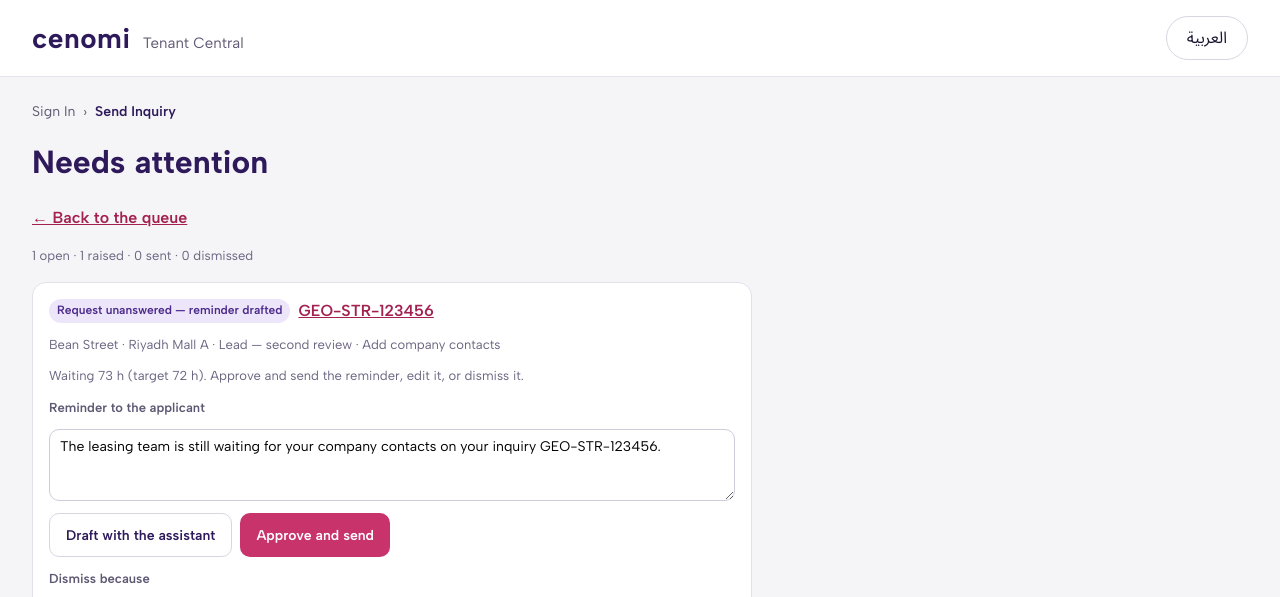
AttentionPage › sends the edited text and reports a hold for quiet hours
Replace the text in the text box labelled "Reminder to the applicant" with "Please add your contacts.". click: coordinates (392, 465)
box: left=49, top=429, right=735, bottom=501
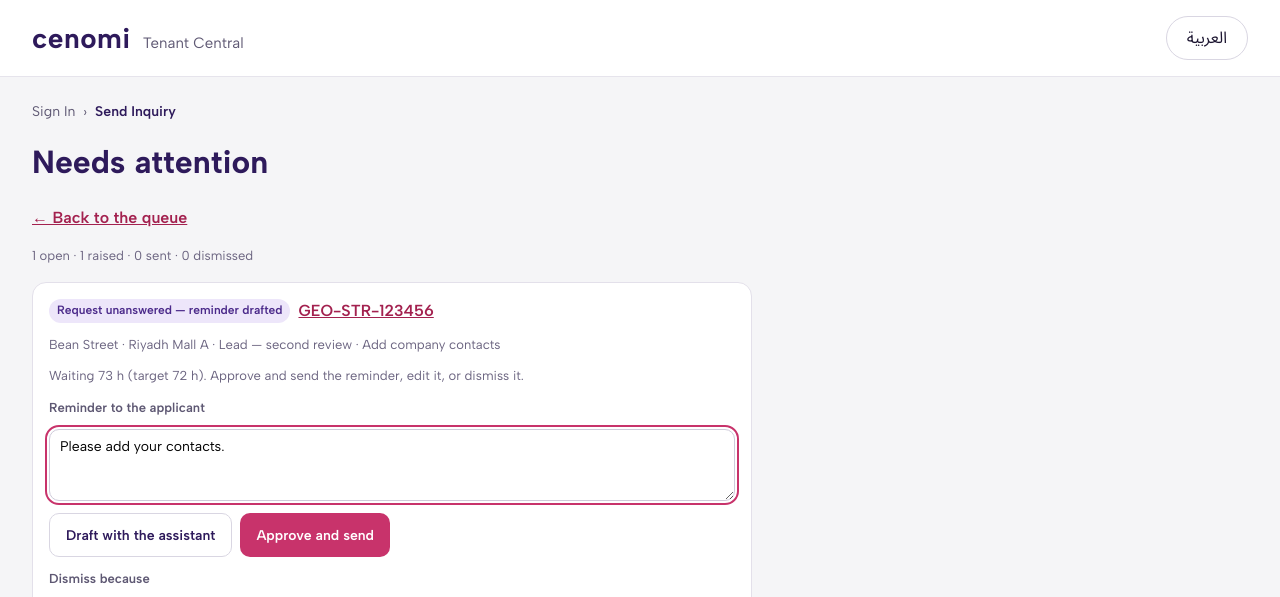
Click the button "Approve and send". click: coordinates (315, 535)
box: left=240, top=513, right=390, bottom=557
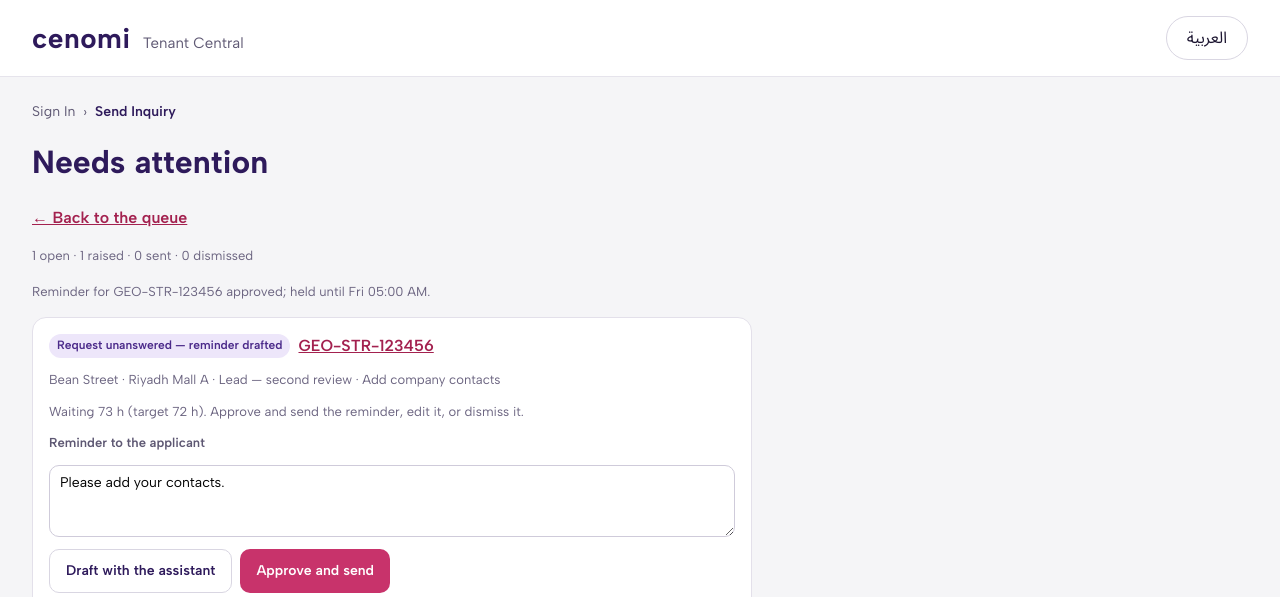
Check: the message shows "held until", box left=32, top=284, right=430, bottom=298
